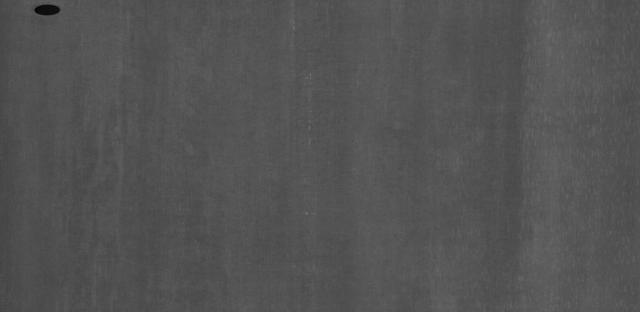punching_hole: (32, 1, 66, 20)
